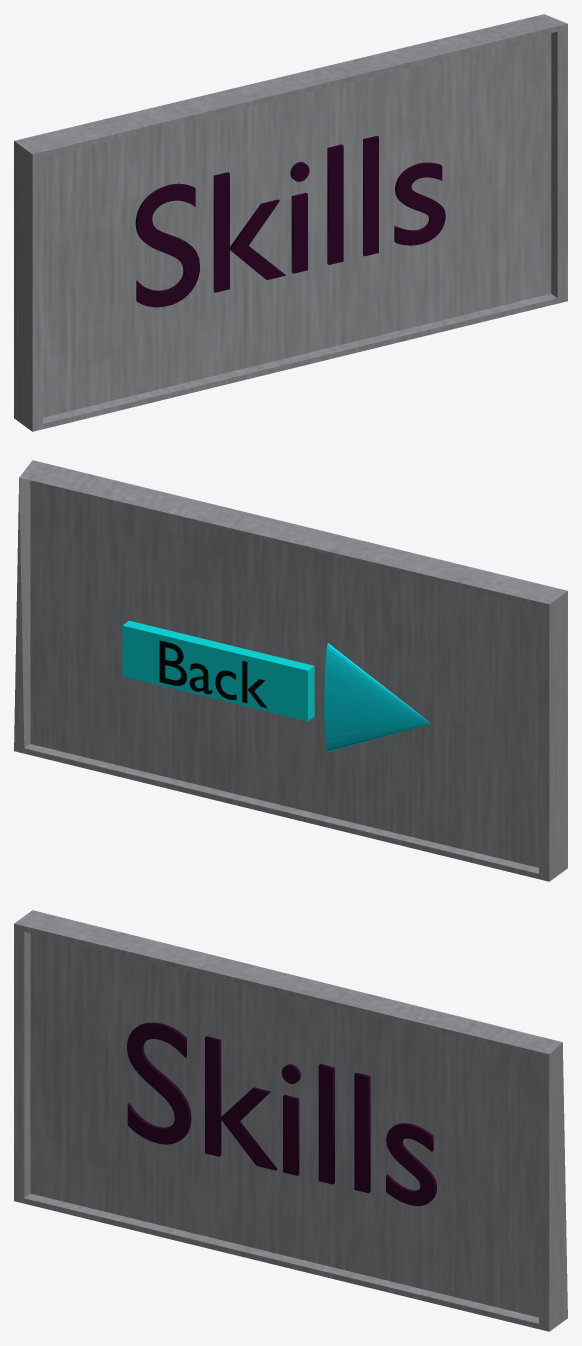
The model's file is Skills.glb.
3 renders of one model, top to bottom at view 1: azimuth 30°, elevation 25°; view 2: azimuth 150°, elevation 25°; view 3: azimuth 330°, elevation 25°, orthographic.
Visible parts, largest first — view 1: Cube, Text; view 2: Cube, Cube.001, Cone, Text.001; view 3: Cube, Text.
Part boxes in pixels (x1,y1,x2,y2): Cube: (14, 14, 567, 431); Text: (135, 136, 445, 307); Cube: (14, 460, 567, 881); Cube.001: (122, 620, 314, 721); Cone: (324, 643, 430, 751); Text.001: (159, 640, 267, 708); Cube: (14, 910, 567, 1331); Text: (127, 1022, 436, 1205).
Bounding box in the file's own units: 304 × 151 × 19.48.
Materials: 5 (1 with a texture image).
